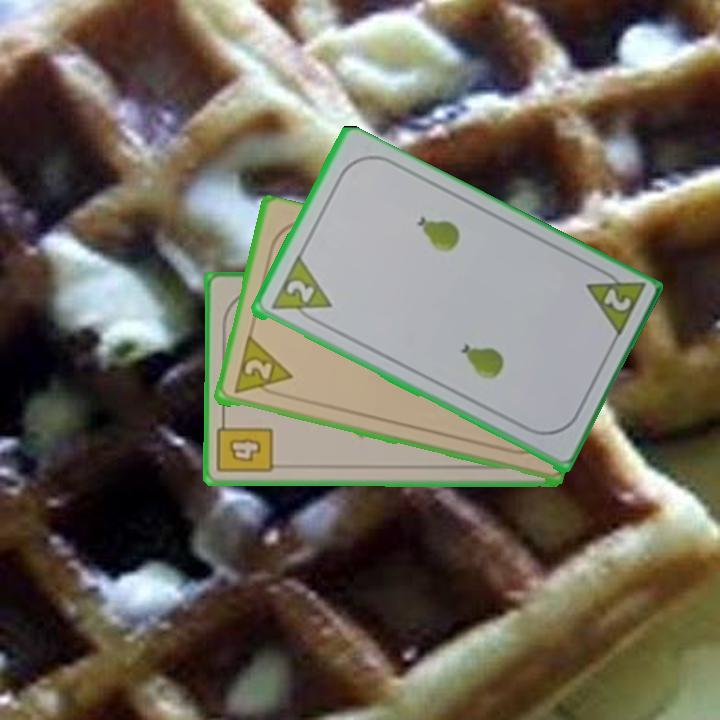2p: (581, 262, 647, 343), (265, 254, 334, 329), (229, 335, 294, 399)
4b: (214, 412, 275, 476)
